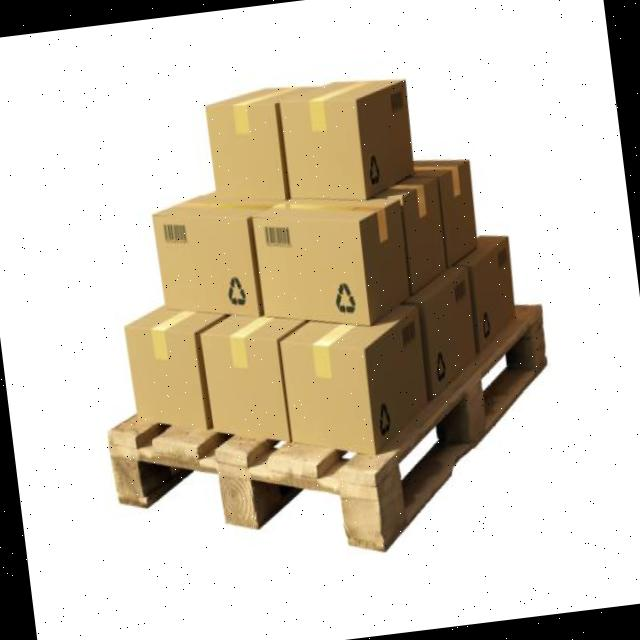Wooden-Pallets: (107, 301, 554, 563)
